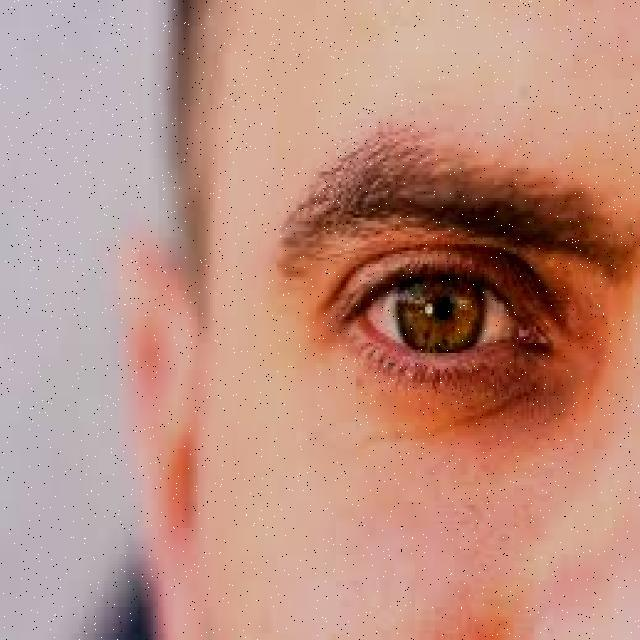Normal: (287, 194, 568, 447)
